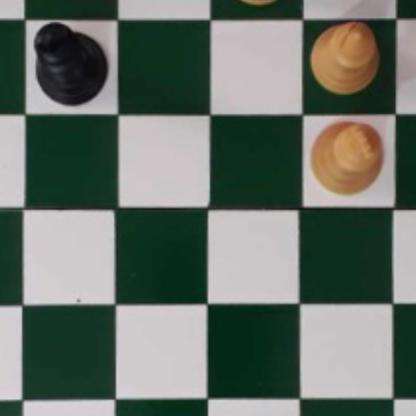black-king: (28, 22, 108, 104)
white-bishop: (310, 18, 378, 95)
white-king: (306, 118, 382, 196)
white-rook: (224, 0, 292, 1)
